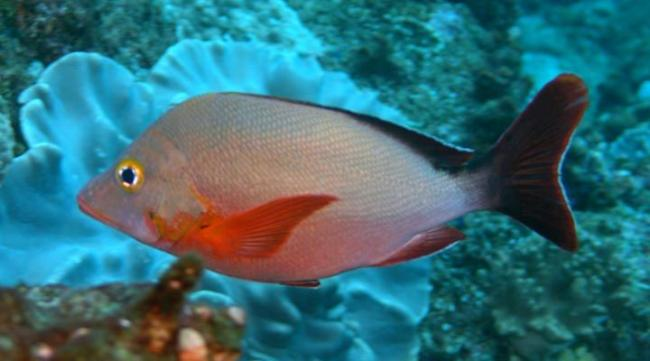fish: (76, 73, 593, 289)
